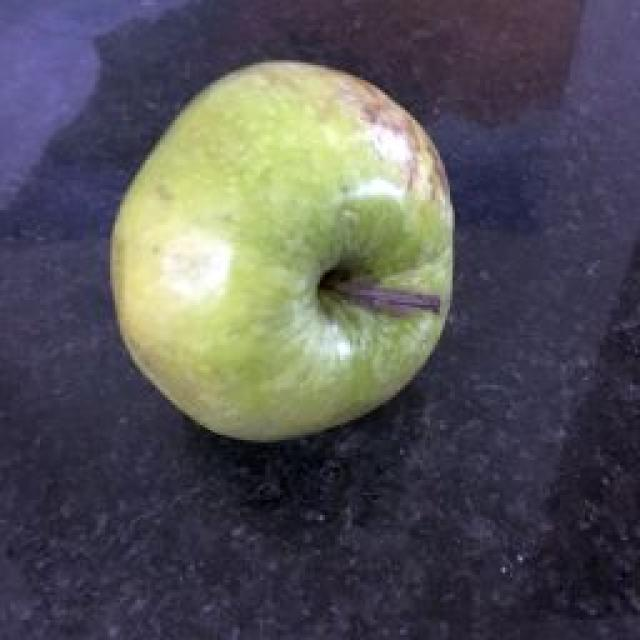Good_Apple: (108, 60, 455, 448)
